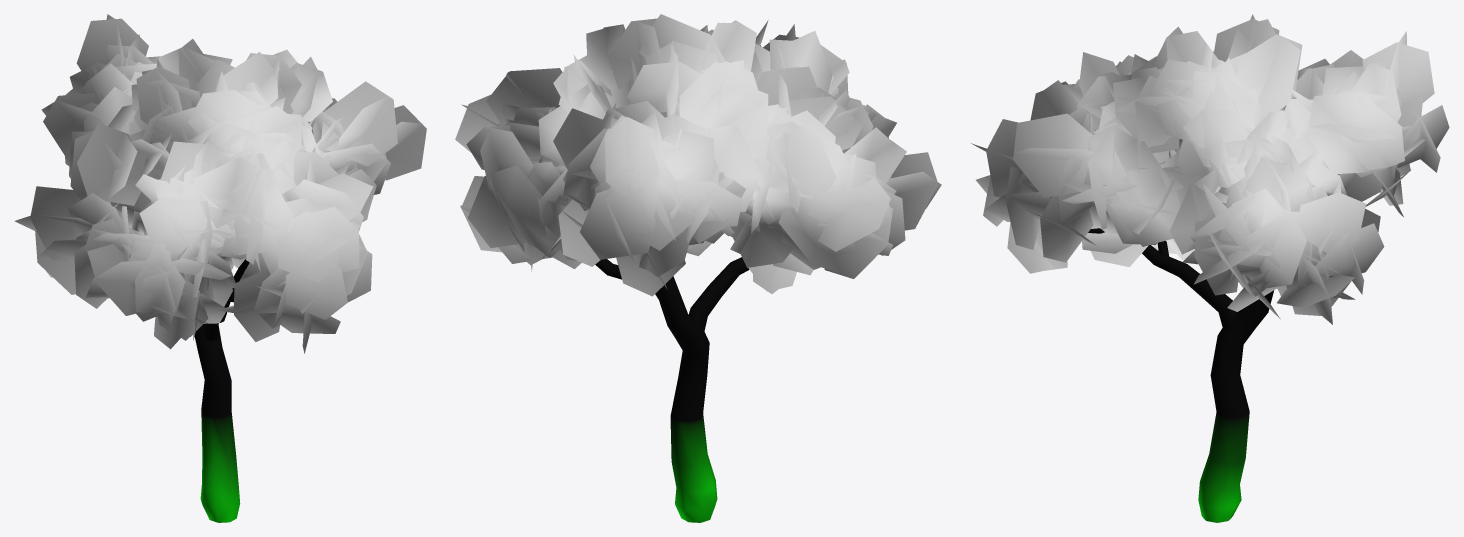
The model's file is SM_OakTree4.FBX.
3 renders of one model, left to right at view 1: azimuth 30°, elevation 25°; view 2: azimuth 150°, elevation 25°; view 3: azimuth 270°, elevation 25°, orthographic. The views are drawn at different scales.
Parts seen in each view (by area): view 1: SM_OakTree4_LOD0; view 2: SM_OakTree4_LOD0; view 3: SM_OakTree4_LOD0.
Part boxes in pixels (bbox=[...]): SM_OakTree4_LOD0: bbox=[14, 14, 426, 522]; SM_OakTree4_LOD0: bbox=[455, 14, 941, 522]; SM_OakTree4_LOD0: bbox=[971, 14, 1449, 522].
Size of the model in its own units: 1331 by 1315 by 1463.
